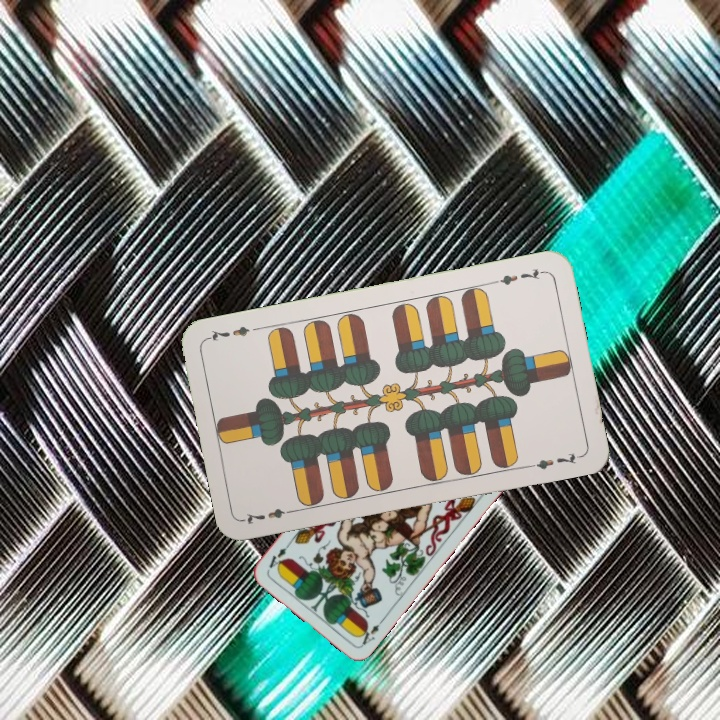E7: (489, 264, 547, 288), (240, 504, 299, 527)
EA: (355, 614, 387, 648)
